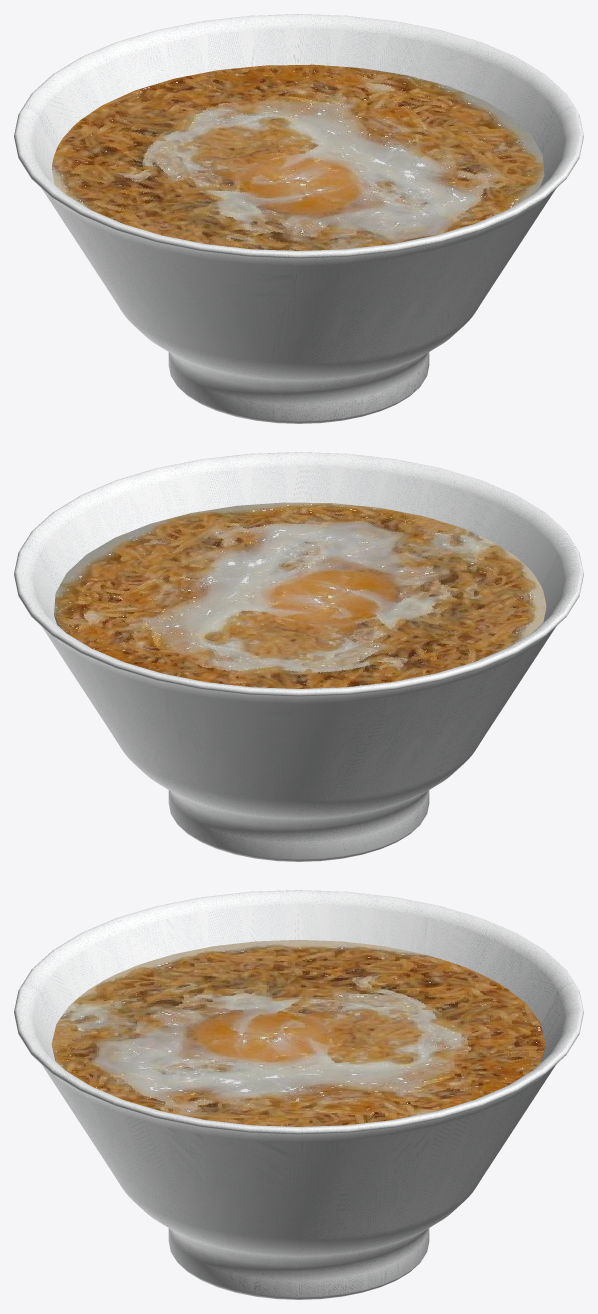
File: comida2.glb
3 views of the same model, one above another, from view 1: azimuth 30°, elevation 25°; view 2: azimuth 150°, elevation 25°; view 3: azimuth 270°, elevation 25° (orthographic).
Parts seen in each view (by area): view 1: instance_3, Cylinder; view 2: instance_3, Cylinder; view 3: instance_3, Cylinder.
Part boxes in pixels (x1,y1,x2,y2): instance_3: [14, 14, 583, 423]; Cylinder: [52, 64, 544, 250]; instance_3: [14, 452, 583, 861]; Cylinder: [54, 502, 546, 688]; instance_3: [14, 890, 583, 1299]; Cylinder: [51, 939, 545, 1126].
Bounding box in the file's own units: 0.2354 × 0.1087 × 0.2354.
Materials: 3 (1 with a texture image).
